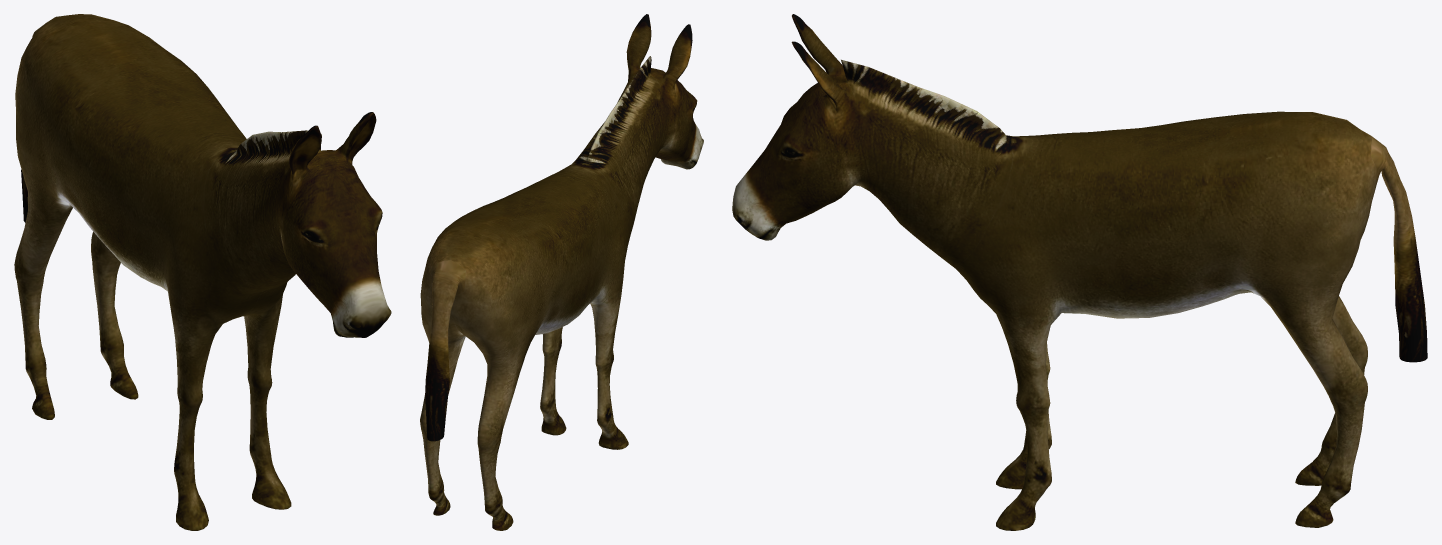
File: content.glb
3 renders of one model, left to right at view 1: azimuth 30°, elevation 25°; view 2: azimuth 150°, elevation 25°; view 3: azimuth 270°, elevation 25°, orthographic. The views are drawn at different scales.
Parts seen in each view (by area): view 1: Brown_Donkey; view 2: Brown_Donkey; view 3: Brown_Donkey.
Part boxes in pixels (<box>): Brown_Donkey: <box>14,14,391,530</box>; Brown_Donkey: <box>420,14,703,530</box>; Brown_Donkey: <box>732,14,1427,530</box>.
Bounding box in the file's own units: 0.4657 × 1.48 × 1.96.
Materials: 1 (1 with a texture image).
